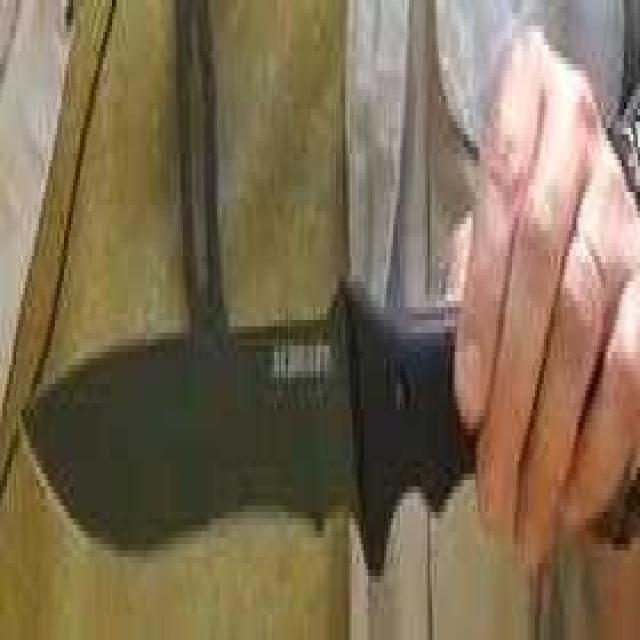Knife: (13, 249, 640, 601)
